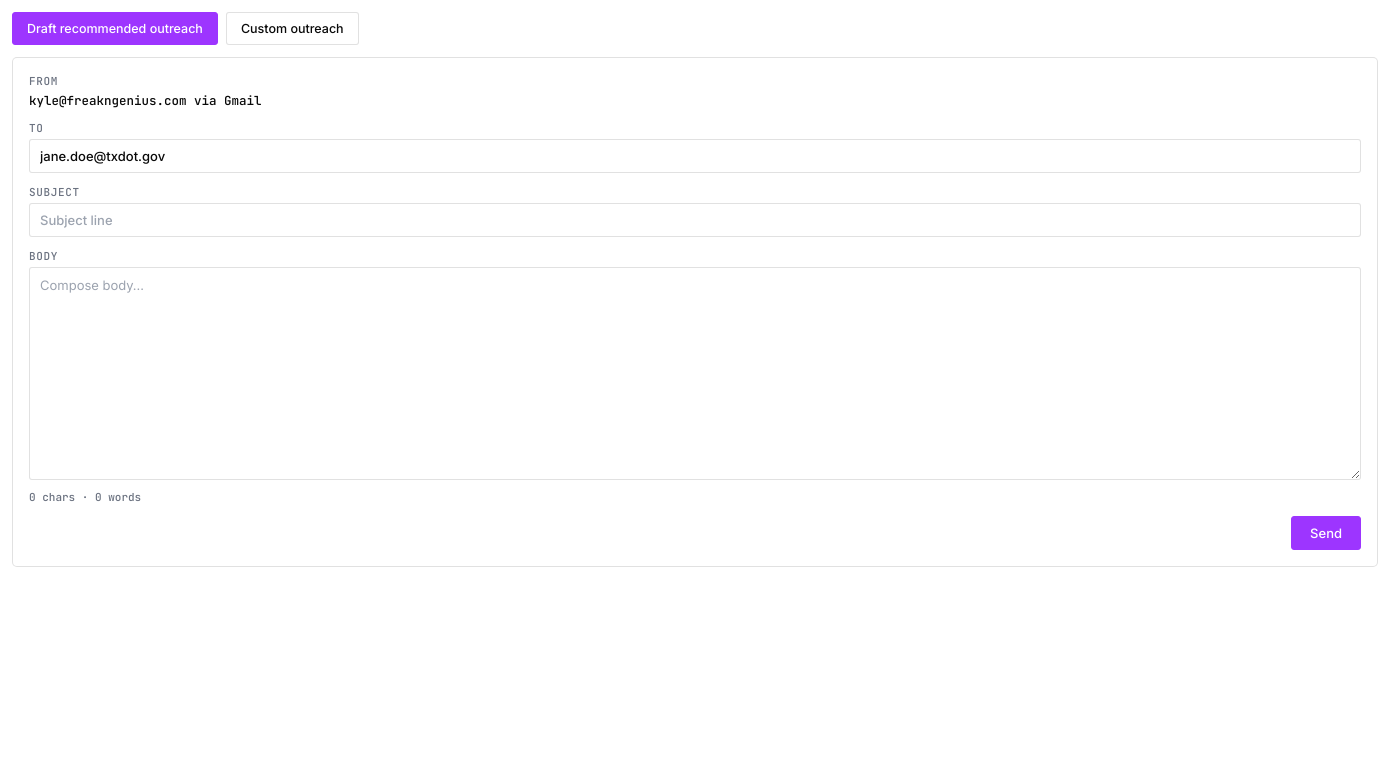
Test: OutreachSection — Draft recommended outreach › uses the suggested_recipient_email from drafter when present
This screenshot has width=1378, height=780.
Click the button with test id "outreach-draft-recommended": click(115, 28) [12,12,218,45]
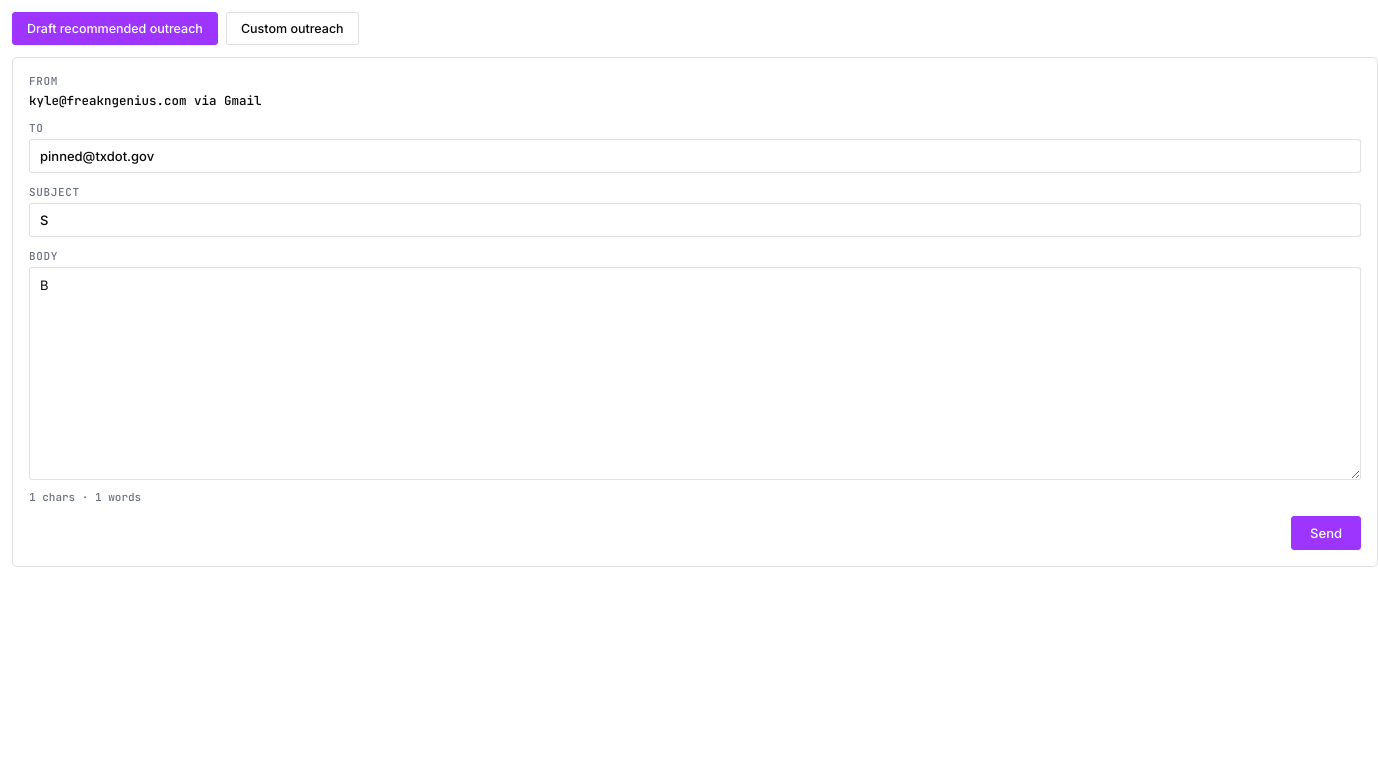
Check: the field with test id "outreach-composer-to" holds "pinned@txdot.gov", box [29,139,1361,173]
